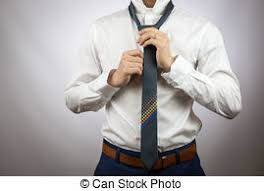F_belt: (94, 134, 208, 172)
F_shirt: (61, 3, 248, 152)
F_tie: (124, 1, 179, 171)
